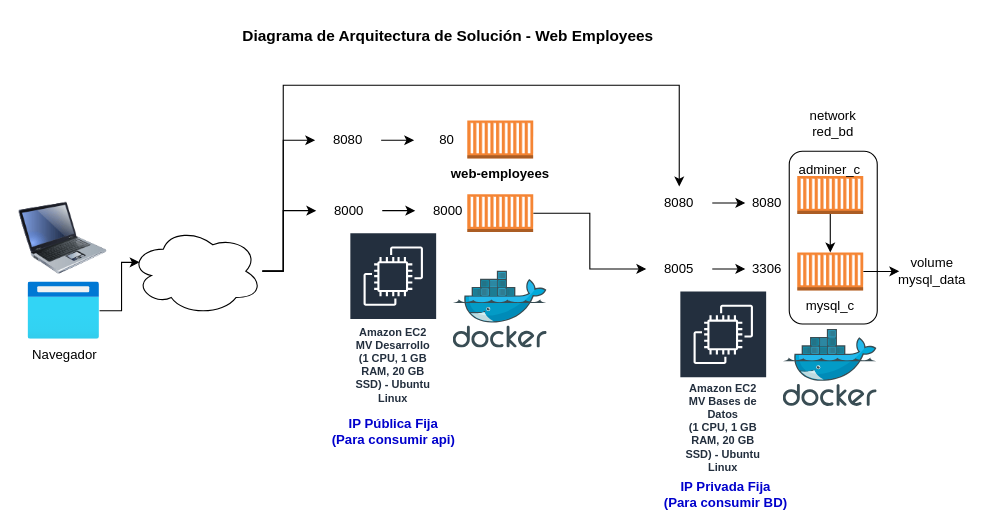
Some shapes in this 985 by 529 pixel diagram are drawn without their labels. Each missing label, with the box of its shape:
api-employees-cors: (466, 193, 533, 232)
Internet: (129, 226, 262, 315)
